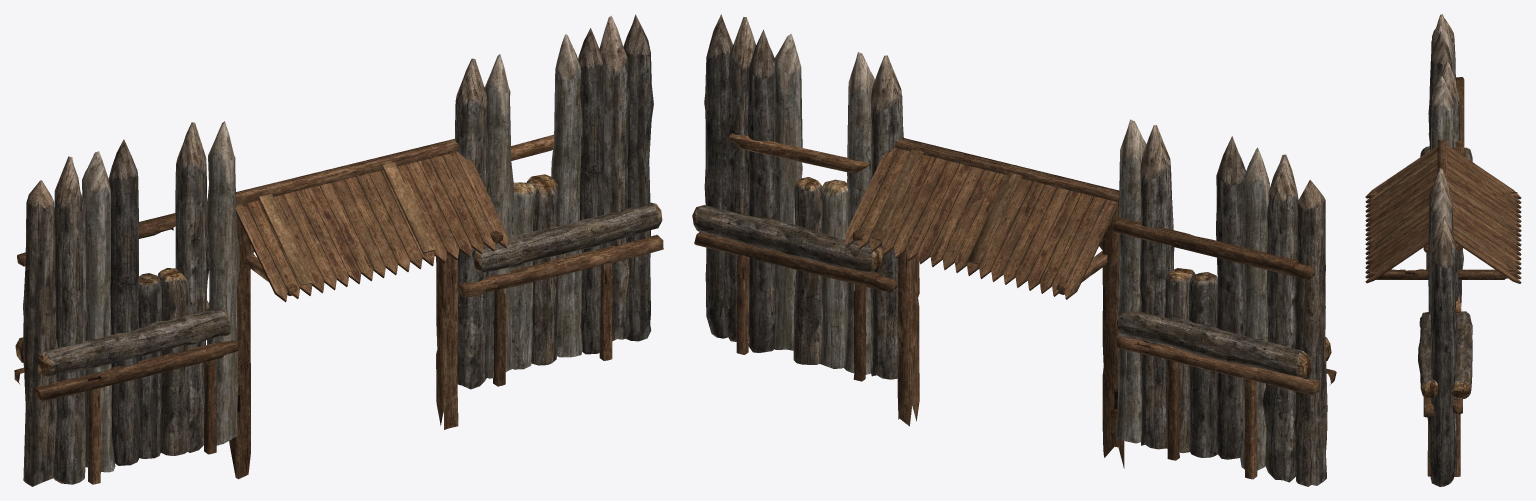
File: o_mdl_env_buildingLogWoodSculptWallGateA-transformed.glb
3 renders of one model, left to right at view 1: azimuth 30°, elevation 25°; view 2: azimuth 150°, elevation 25°; view 3: azimuth 270°, elevation 25°, orthographic. The views are drawn at different scales.
Parts seen in each view (by area): view 1: default; view 2: default; view 3: default.
Boxes of the visible parts, x1=… form: default: x1=14, y1=14, x2=663, y2=486; default: x1=692, y1=14, x2=1336, y2=486; default: x1=1365, y1=14, x2=1521, y2=486.
Size of the model in its own units: 17.7 by 9.97 by 4.86.
Materials: 3 (3 with a texture image).
